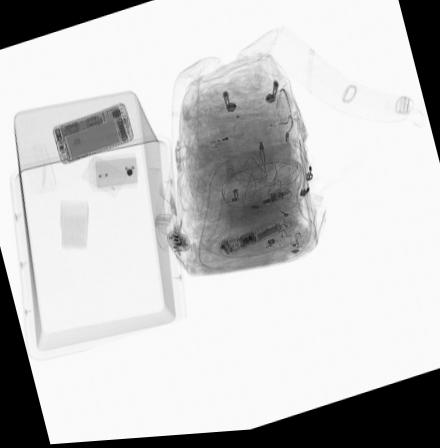Lighter: (209, 130, 251, 152)
